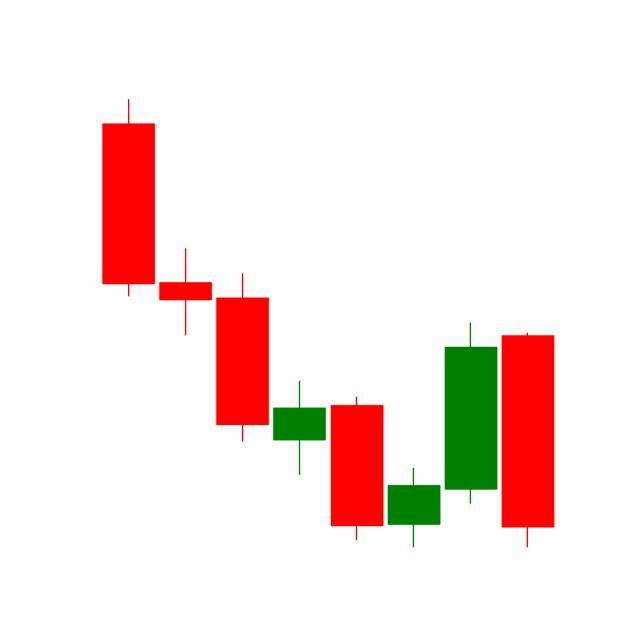Three Inside Up-Down: (328, 320, 500, 549)
